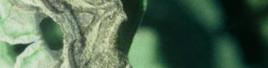Tomato leaf late blight: (0, 0, 220, 68)
